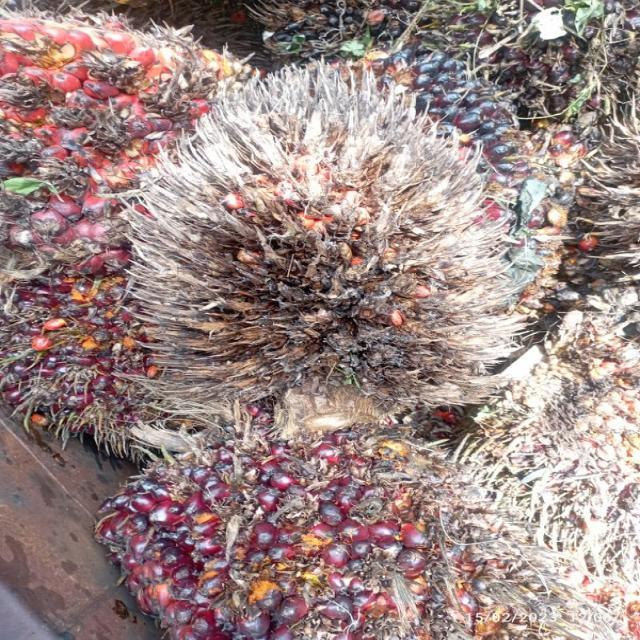fraksi 1: (96, 397, 550, 640)
fraksi 4: (124, 58, 546, 432)
